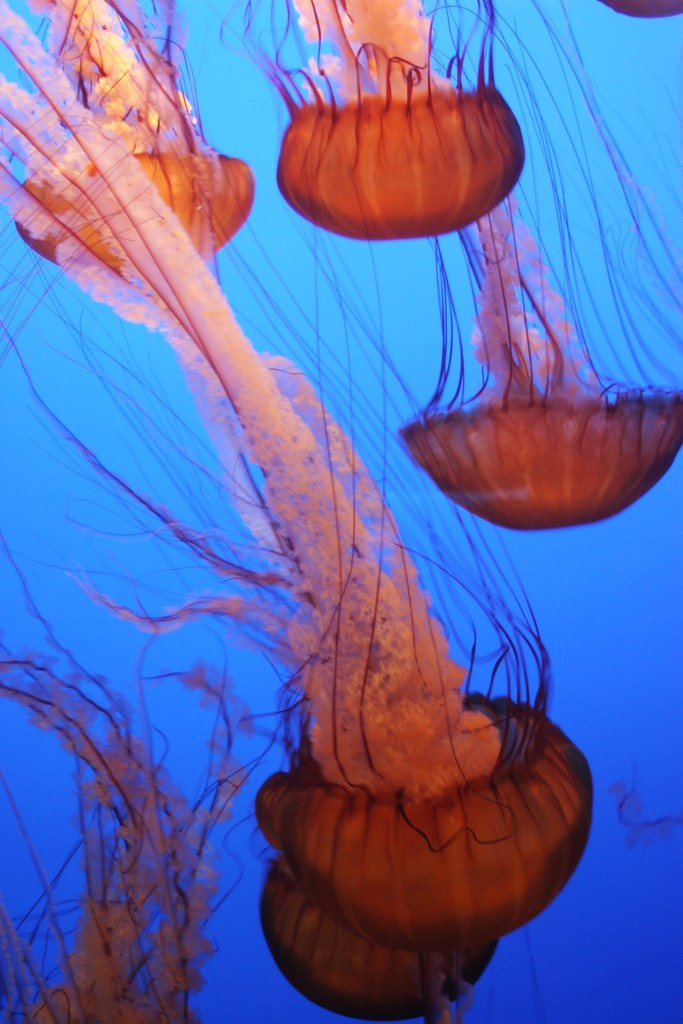Jellyfish: (0, 0, 682, 1023), (208, 0, 527, 246)
